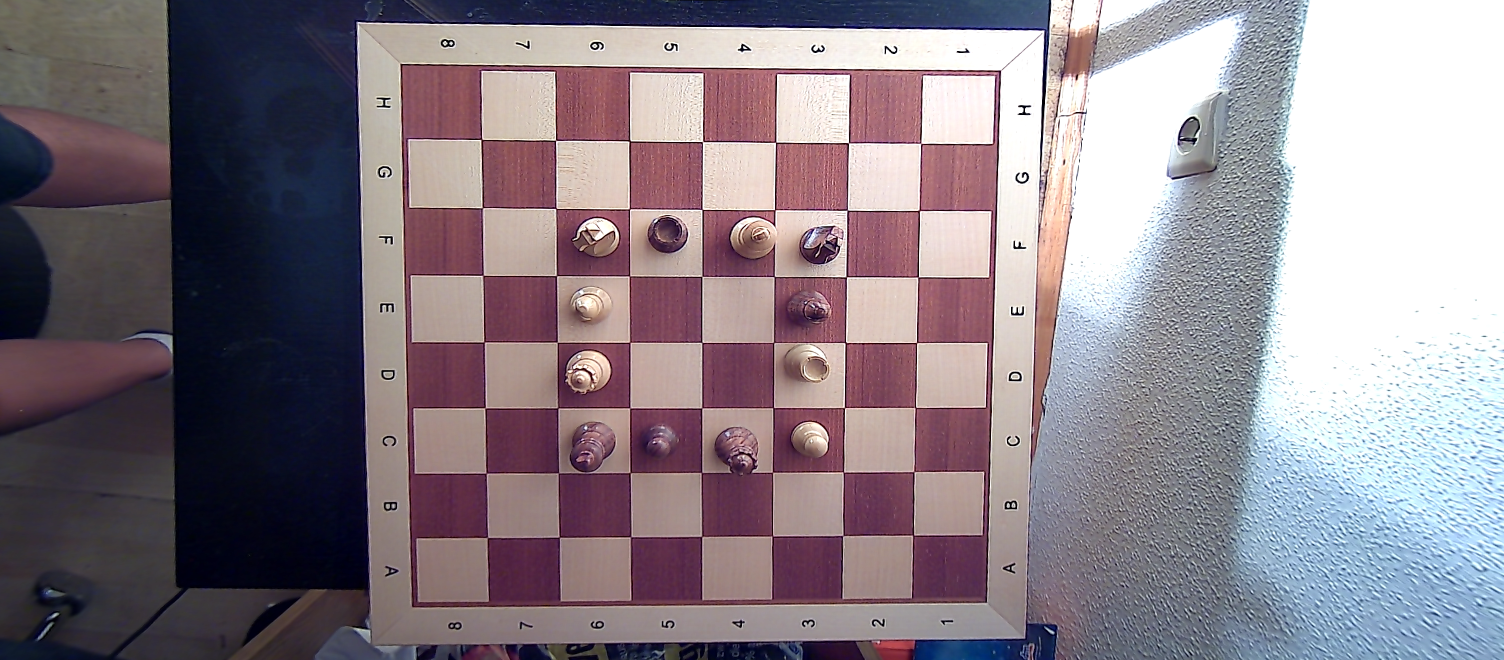black-bishop: (785, 287, 834, 328)
black-king: (565, 418, 620, 474)
black-knight: (794, 221, 848, 268)
black-pawn: (638, 418, 685, 466)
black-queen: (712, 420, 762, 478)
black-rook: (643, 207, 692, 259)
white-bishop: (565, 282, 616, 328)
white-king: (726, 213, 780, 262)
white-knight: (568, 214, 623, 261)
white-pawn: (788, 415, 835, 465)
white-queen: (562, 346, 614, 398)
white-rook: (779, 337, 834, 388)
